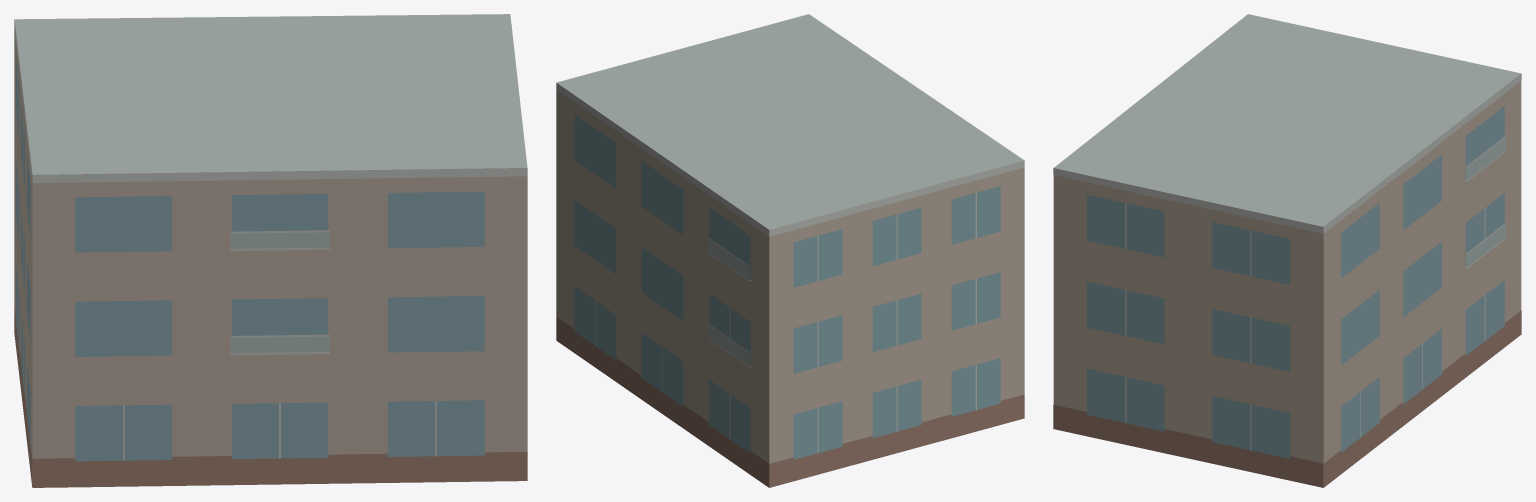
File: survey-upis-32470158.glb
3 renders of one model, left to right at view 1: azimuth 30°, elevation 25°; view 2: azimuth 150°, elevation 25°; view 3: azimuth 270°, elevation 25°, orthographic. The views are drawn at different scales.
Visible parts, largest first — view 1: survey-upis-32470158.tmp; view 2: survey-upis-32470158.tmp; view 3: survey-upis-32470158.tmp.
Part boxes in pixels (x1,y1,x2,y2): survey-upis-32470158.tmp: [14, 14, 527, 487]; survey-upis-32470158.tmp: [556, 14, 1024, 487]; survey-upis-32470158.tmp: [1053, 14, 1521, 487].
Size of the model in its own units: 16.01 by 9.15 by 14.88.
